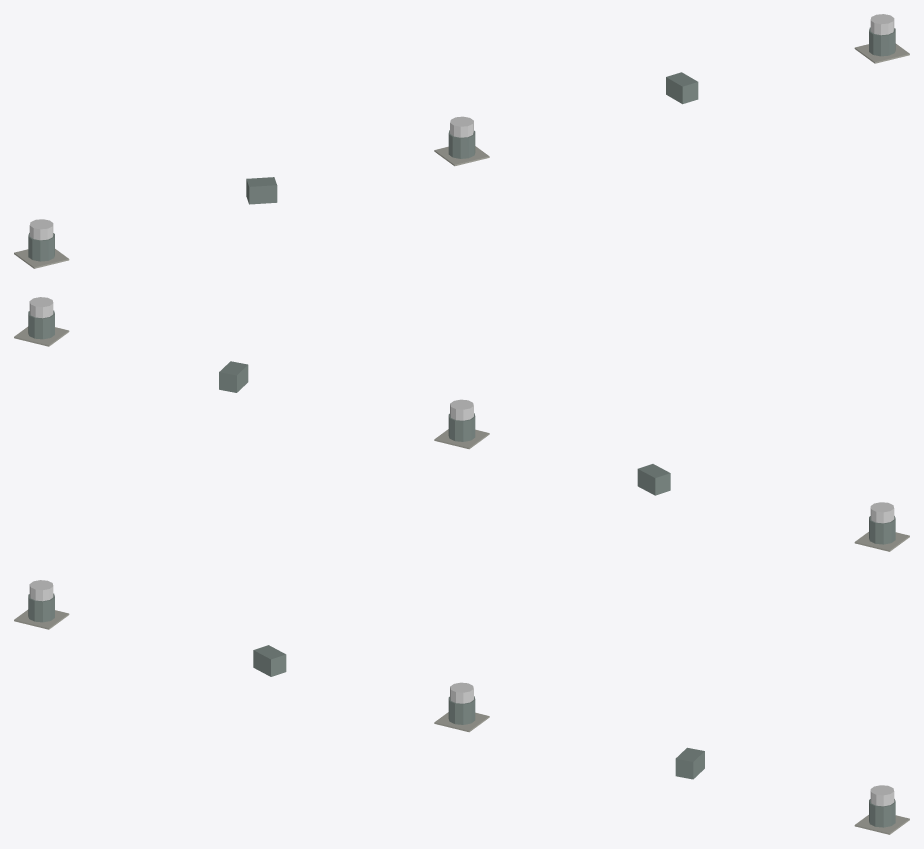
File: SM_Balizas_v3_Rotas_LOD0.fbx
The picture shows the model from 3 angles, top to bottom: view 1: azimuth 30°, elevation 25°; view 2: azimuth 150°, elevation 25°; view 3: azimuth 330°, elevation 25°; orthographic projection.
Visible parts, largest first — view 1: SM_ambiente_aerodromo_v8_LOD0; view 2: SM_ambiente_aerodromo_v8_LOD0; view 3: SM_ambiente_aerodromo_v8_LOD0.
Boxes of the visible parts, left/top/right/bottom form: SM_ambiente_aerodromo_v8_LOD0: left=14, top=14, right=909, bottom=268; SM_ambiente_aerodromo_v8_LOD0: left=14, top=297, right=909, bottom=551; SM_ambiente_aerodromo_v8_LOD0: left=14, top=580, right=909, bottom=834.
Bounding box in the file's own units: 12.5 × 0.45 × 0.5365.
